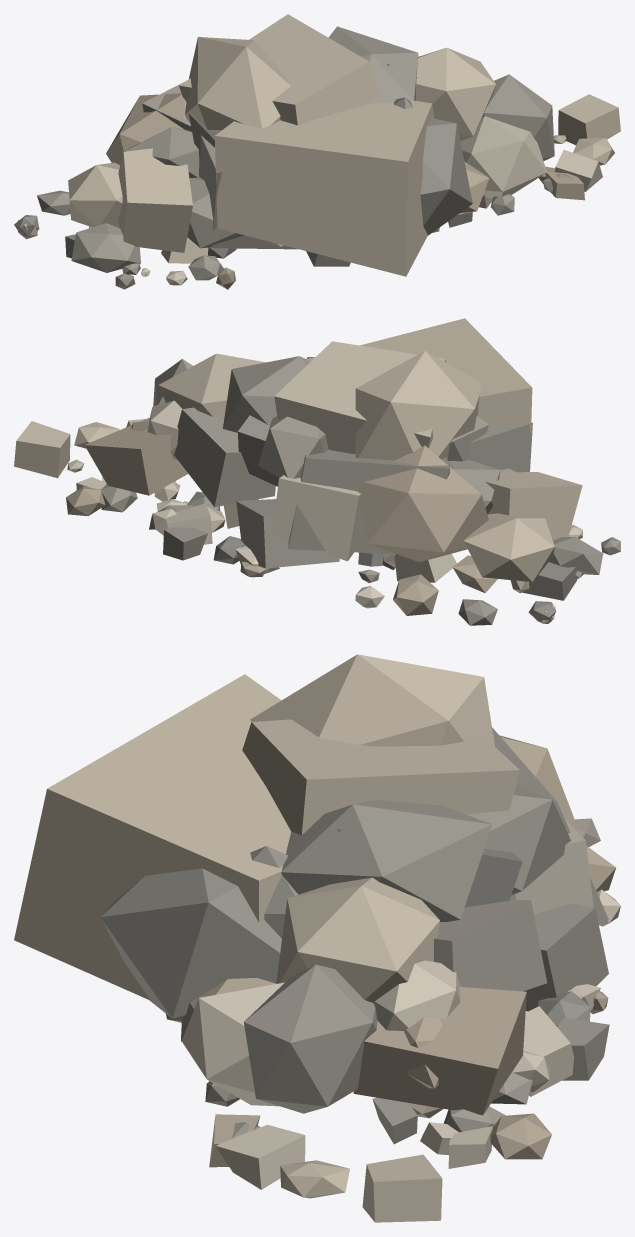
File: preview.glb
The picture shows the model from 3 angles, top to bottom: view 1: azimuth 30°, elevation 25°; view 2: azimuth 150°, elevation 25°; view 3: azimuth 270°, elevation 25°; orthographic projection. The views are drawn at different scales.
Parts seen in each view (by area): view 1: Pile02 rock001, Pile02 rock028, Pile02 rock000, Pile02 rock025, Pile02 rock011, Pile02 rock002, Pile02 rock026, Pile02 rock018, Pile02 rock014, Pile02 rock009, Pile02 rock020, Pile02 rock012 (+15 smaller); view 2: Pile02 rock000, Pile02 rock020, Pile02 rock028, Pile02 rock001, Pile02 rock022, Pile02 rock009, Pile02 rock004, Pile02 rock010, Pile02 rock016, Pile02 rock025, Pile02 rock018, Pile02 rock011 (+22 smaller); view 3: Pile02 rock001, Pile02 rock028, Pile02 rock026, Pile02 rock018, Pile02 rock000, Pile02 rock014, Pile02 rock011, Pile02 rock016, Pile02 rock022, Pile02 rock002, Pile02 rock019, Pile02 rock005 (+23 smaller).
Boxes of the visible parts, left/top/right/bottom form: Pile02 rock001: left=214, top=100, right=434, bottom=276; Pile02 rock028: left=179, top=14, right=378, bottom=125; Pile02 rock000: left=185, top=37, right=290, bottom=129; Pile02 rock025: left=118, top=148, right=192, bottom=252; Pile02 rock011: left=416, top=47, right=495, bottom=140; Pile02 rock002: left=460, top=116, right=546, bottom=198; Pile02 rock026: left=420, top=118, right=472, bottom=235; Pile02 rock018: left=328, top=26, right=418, bottom=104; Pile02 rock014: left=482, top=74, right=554, bottom=160; Pile02 rock009: left=68, top=162, right=122, bottom=227; Pile02 rock020: left=106, top=93, right=186, bottom=164; Pile02 rock012: left=71, top=223, right=140, bottom=272; Pile02 rock000: left=355, top=351, right=480, bottom=460; Pile02 rock020: left=358, top=445, right=488, bottom=562; Pile02 rock028: left=274, top=341, right=445, bottom=453; Pile02 rock001: left=307, top=318, right=532, bottom=435; Pile02 rock022: left=174, top=407, right=275, bottom=507; Pile02 rock009: left=464, top=513, right=554, bottom=582; Pile02 rock004: left=288, top=450, right=450, bottom=554; Pile02 rock010: left=272, top=475, right=361, bottom=561; Pile02 rock016: left=84, top=417, right=188, bottom=495; Pile02 rock025: left=485, top=472, right=582, bottom=540; Pile02 rock018: left=223, top=356, right=310, bottom=432; Pile02 rock011: left=158, top=353, right=265, bottom=418; Pile02 rock001: left=14, top=674, right=290, bottom=1000; Pile02 rock028: left=242, top=719, right=519, bottom=835; Pile02 rock026: left=100, top=868, right=281, bottom=1019; Pile02 rock018: left=281, top=799, right=492, bottom=921; Pile02 rock000: left=250, top=654, right=494, bottom=746; Pile02 rock014: left=244, top=964, right=377, bottom=1113; Pile02 rock011: left=276, top=877, right=439, bottom=1002; Pile02 rock016: left=353, top=987, right=526, bottom=1115; Pile02 rock022: left=434, top=900, right=547, bottom=991; Pile02 rock002: left=181, top=982, right=284, bottom=1106; Pile02 rock019: left=523, top=903, right=608, bottom=1011; Pile02 rock005: left=466, top=785, right=570, bottom=895.
Size of the model in its own units: 1.59 by 0.5289 by 0.9706.
